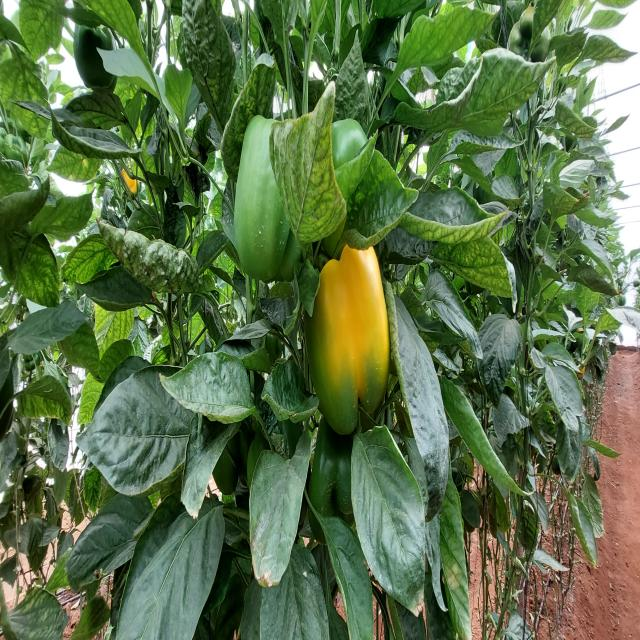Green--Not-ready-to-harvest: (231, 107, 306, 293), (323, 85, 363, 194)
GreenishYellow--Can-be-Harvested: (310, 250, 398, 444)
